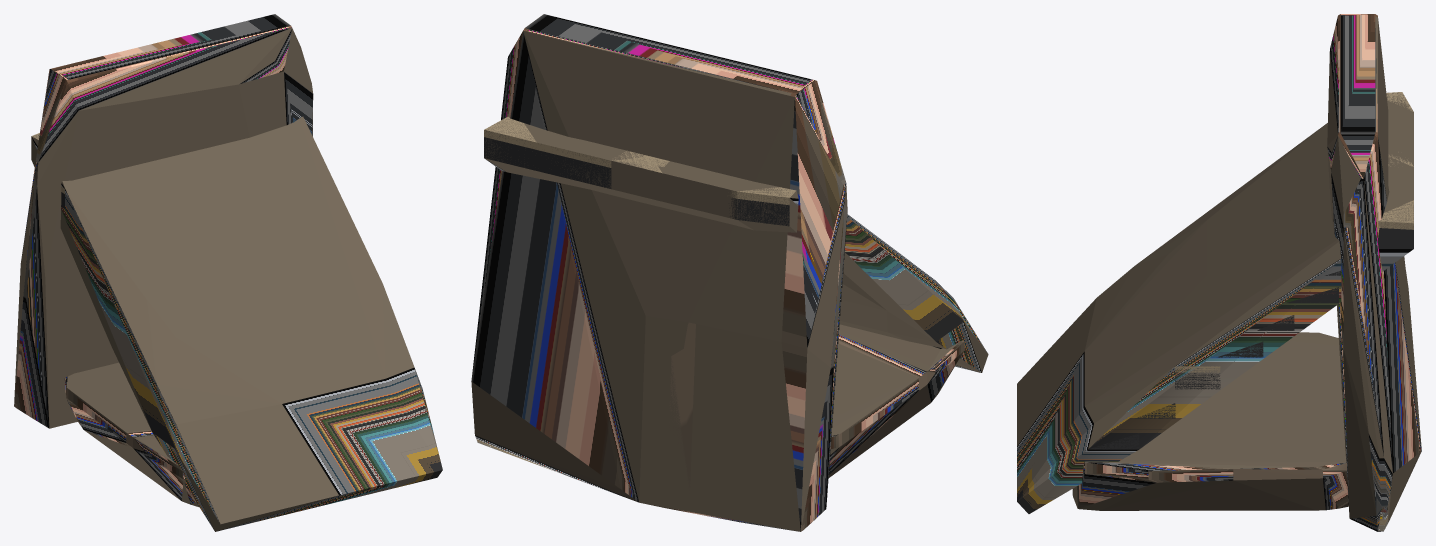
Rendered from build.glb.
3 renders of one model, left to right at view 1: azimuth 30°, elevation 25°; view 2: azimuth 150°, elevation 25°; view 3: azimuth 270°, elevation 25°, orthographic. The views are drawn at different scales.
Visible parts, largest first — view 1: SM_Bld_Snow_Platform_Stairs_01.001.hull, SM_Prop_Wall_Junk_06.hull, SM_Env_Wood_Platform_01.hull; view 2: SM_Prop_Wall_Junk_06.hull, SM_Bld_Snow_Platform_Stairs_01.001.hull, SM_Env_Wood_Platform_01.hull, SM_Bld_Snow_Platform_Stairs_01.001, SM_Prop_Wall_Junk_06; view 3: SM_Bld_Snow_Platform_Stairs_01.001.hull, SM_Prop_Wall_Junk_06.hull, SM_Env_Wood_Platform_01.hull, SM_Bld_Snow_Platform_Stairs_01.001.
Part boxes in pixels (x1,y1,x2,y2): SM_Bld_Snow_Platform_Stairs_01.001.hull: (31,116,442,531); SM_Prop_Wall_Junk_06.hull: (14,14,313,428); SM_Env_Wood_Platform_01.hull: (64,362,195,504); SM_Prop_Wall_Junk_06.hull: (471,14,847,531); SM_Bld_Snow_Platform_Stairs_01.001.hull: (484,116,988,372); SM_Env_Wood_Platform_01.hull: (828,324,964,477); SM_Bld_Snow_Platform_Stairs_01.001: (484,117,796,226); SM_Prop_Wall_Junk_06: (523,28,796,487); SM_Bld_Snow_Platform_Stairs_01.001.hull: (1017,92,1413,513); SM_Prop_Wall_Junk_06.hull: (1327,14,1421,531); SM_Env_Wood_Platform_01.hull: (1072,332,1348,510); SM_Bld_Snow_Platform_Stairs_01.001: (1089,92,1413,449).
Bounding box in the file's own units: 2.79 × 3.35 × 3.1.
11 materials, 11 textured.
